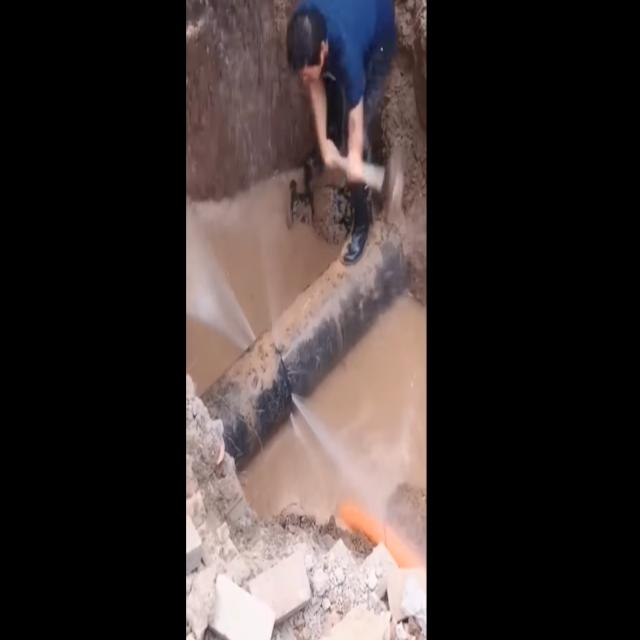leak: (186, 207, 255, 349), (292, 393, 368, 496), (290, 413, 305, 444)
